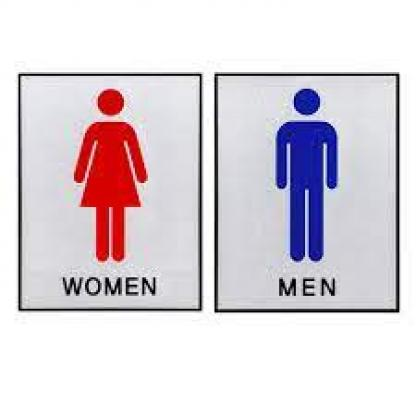toilet: (71, 88, 152, 263), (273, 88, 343, 266)
